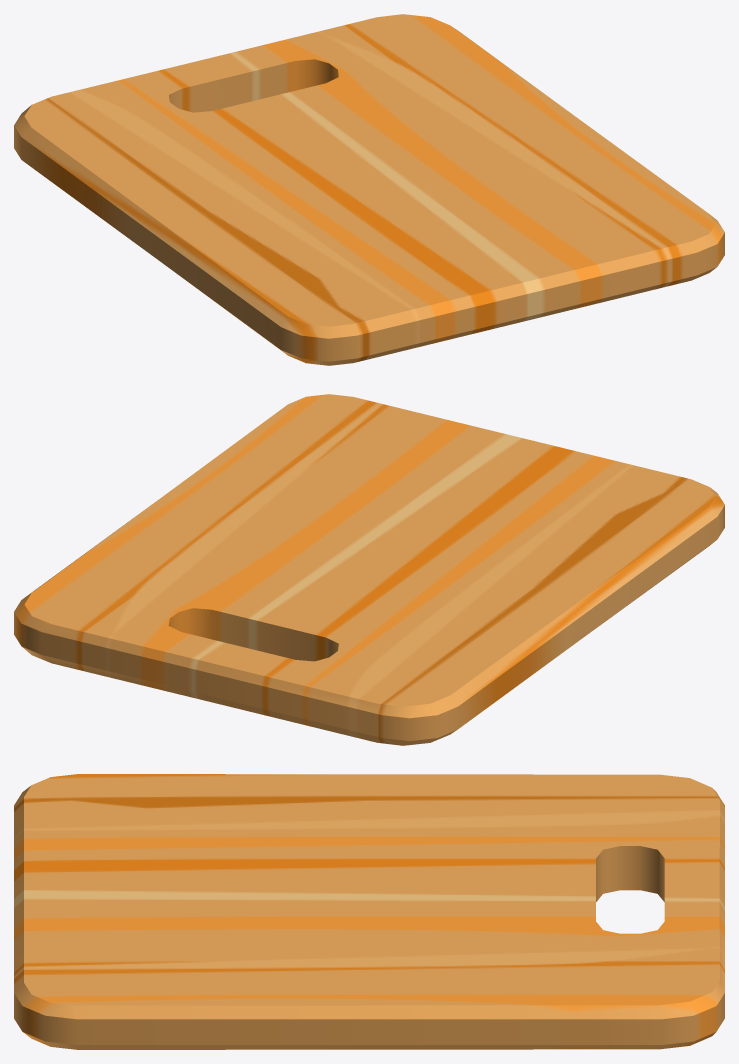
The model's file is Chopping_Board_01.fbx.
3 views of the same model, one above another, from view 1: azimuth 30°, elevation 25°; view 2: azimuth 150°, elevation 25°; view 3: azimuth 270°, elevation 25° (orthographic). The views are drawn at different scales.
Parts seen in each view (by area): view 1: Chopping_Board_01; view 2: Chopping_Board_01; view 3: Chopping_Board_01.
Boxes of the visible parts, x1,y1,x2,y2 form: Chopping_Board_01: [14, 14, 724, 365]; Chopping_Board_01: [14, 394, 724, 745]; Chopping_Board_01: [14, 774, 724, 1049].
Bounding box in the file's own units: 56 × 4.8 × 70.
